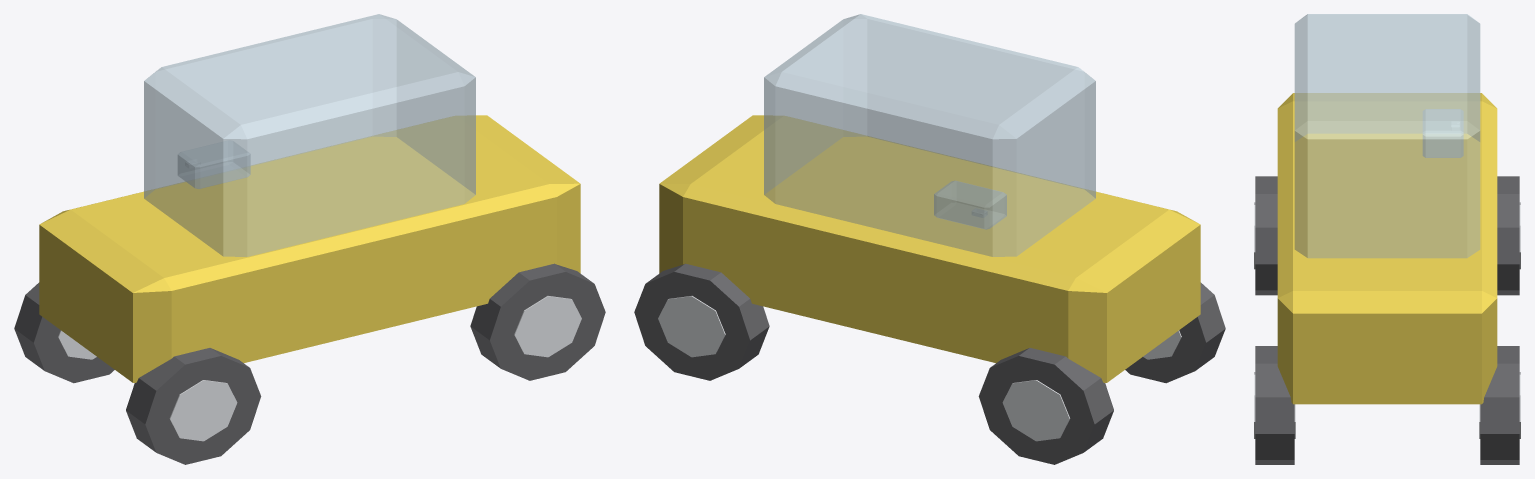
The model's file is b07_articulated_wheel_loader.glb.
The picture shows the model from 3 angles, left to right: view 1: azimuth 30°, elevation 25°; view 2: azimuth 150°, elevation 25°; view 3: azimuth 270°, elevation 25°; orthographic projection.
Parts seen in each view (by area): view 1: b07_articulated_wheel_loader; view 2: b07_articulated_wheel_loader; view 3: b07_articulated_wheel_loader.
Boxes of the visible parts, left/top/right/bottom form: b07_articulated_wheel_loader: left=14, top=14, right=605, bottom=464; b07_articulated_wheel_loader: left=634, top=14, right=1225, bottom=464; b07_articulated_wheel_loader: left=1254, top=14, right=1520, bottom=464.
Size of the model in its own units: 5.45 by 3.4 by 2.71.
